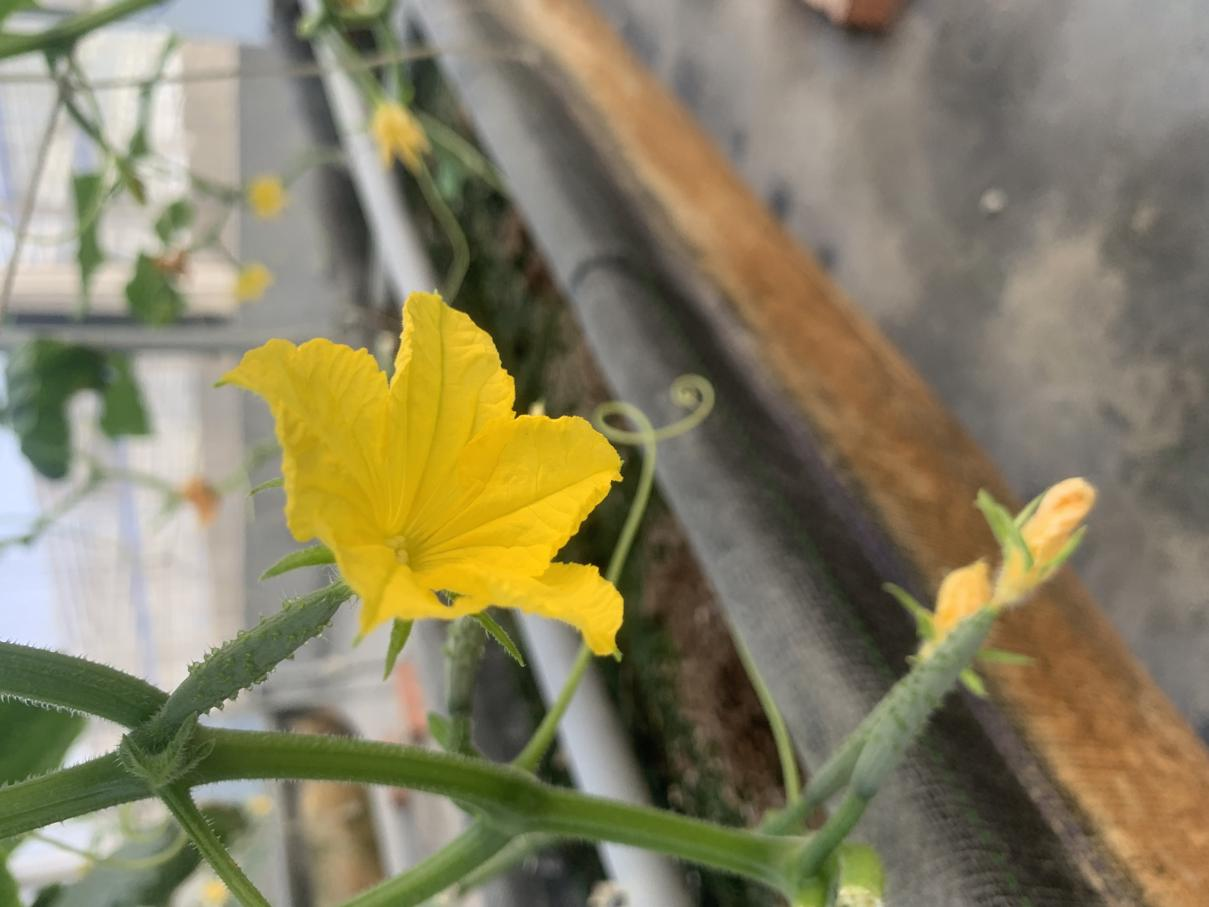flower: (200, 277, 645, 679)
